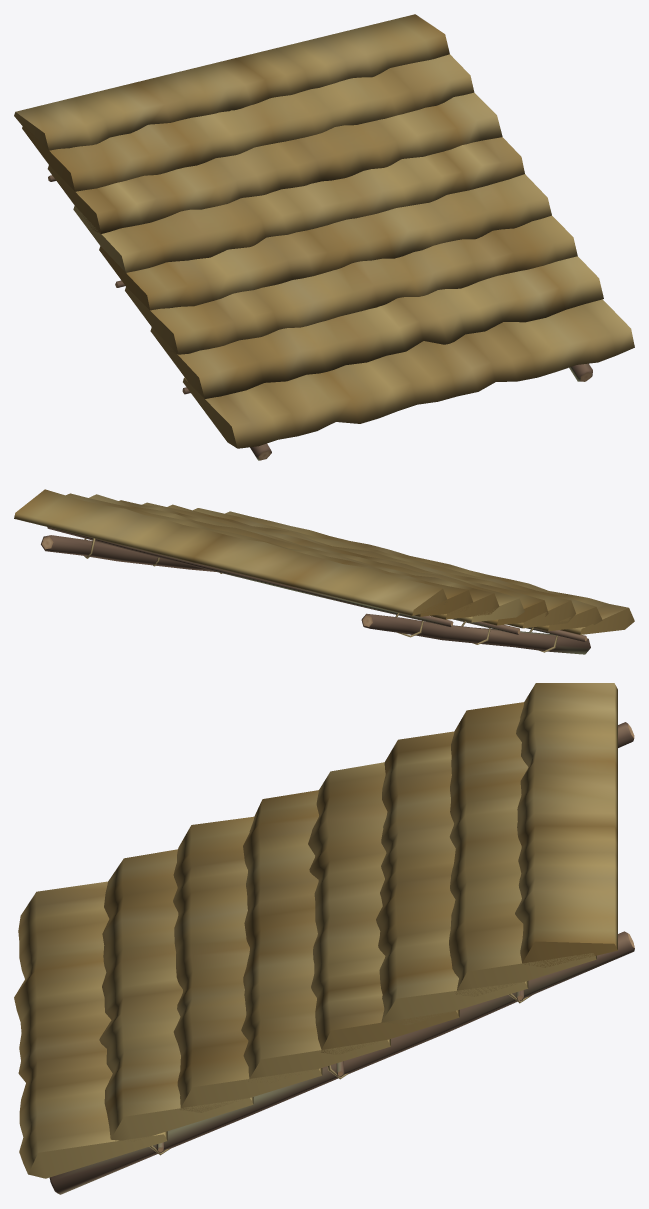
File: roof.glb
The picture shows the model from 3 angles, top to bottom: view 1: azimuth 30°, elevation 25°; view 2: azimuth 150°, elevation 25°; view 3: azimuth 270°, elevation 25°; orthographic projection. The views are drawn at different scales.
Visible parts, largest first — view 1: Part_05, Part_06, Part_12, Part_10, Part_07, Part_08, Part_11, Part_09; view 2: Part_12, Part_00, Part_05, Part_10, Part_07, Part_06, Part_11, Part_08, Part_09, Part_01, Part_04, Part_13 (+2 smaller); view 3: Part_12, Part_05, Part_06, Part_10, Part_07, Part_11, Part_08, Part_09, Part_01.
Part boxes in pixels (box(x1,y1,x2,y2)): Part_05: box(183, 299, 634, 448); Part_06: box(150, 256, 603, 399); Part_12: box(14, 14, 449, 152); Part_10: box(47, 92, 502, 233); Part_07: box(125, 215, 577, 354); Part_08: box(99, 174, 551, 310); Part_11: box(22, 54, 474, 191); Part_09: box(73, 137, 524, 272); Part_12: box(14, 489, 447, 615); Part_00: box(361, 613, 590, 654); Part_05: box(225, 511, 634, 634); Part_10: box(89, 494, 499, 619); Part_07: box(167, 504, 575, 628); Part_06: box(193, 508, 602, 631); Part_11: box(66, 493, 472, 616); Part_08: box(142, 502, 548, 625); Part_09: box(119, 500, 524, 622); Part_01: box(41, 535, 215, 571); Part_04: box(47, 527, 453, 626); Part_13: box(84, 538, 557, 652); Part_12: box(515, 683, 617, 967); Part_05: box(14, 881, 167, 1178); Part_06: box(99, 849, 253, 1141); Part_10: box(376, 731, 528, 1024); Part_07: box(173, 816, 322, 1112); Part_11: box(449, 702, 596, 996); Part_08: box(241, 790, 390, 1082); Part_09: box(308, 762, 459, 1054); Part_01: box(49, 931, 634, 1194).
Bounding box in the file's own units: 2.27 × 1.12 × 2.25.
